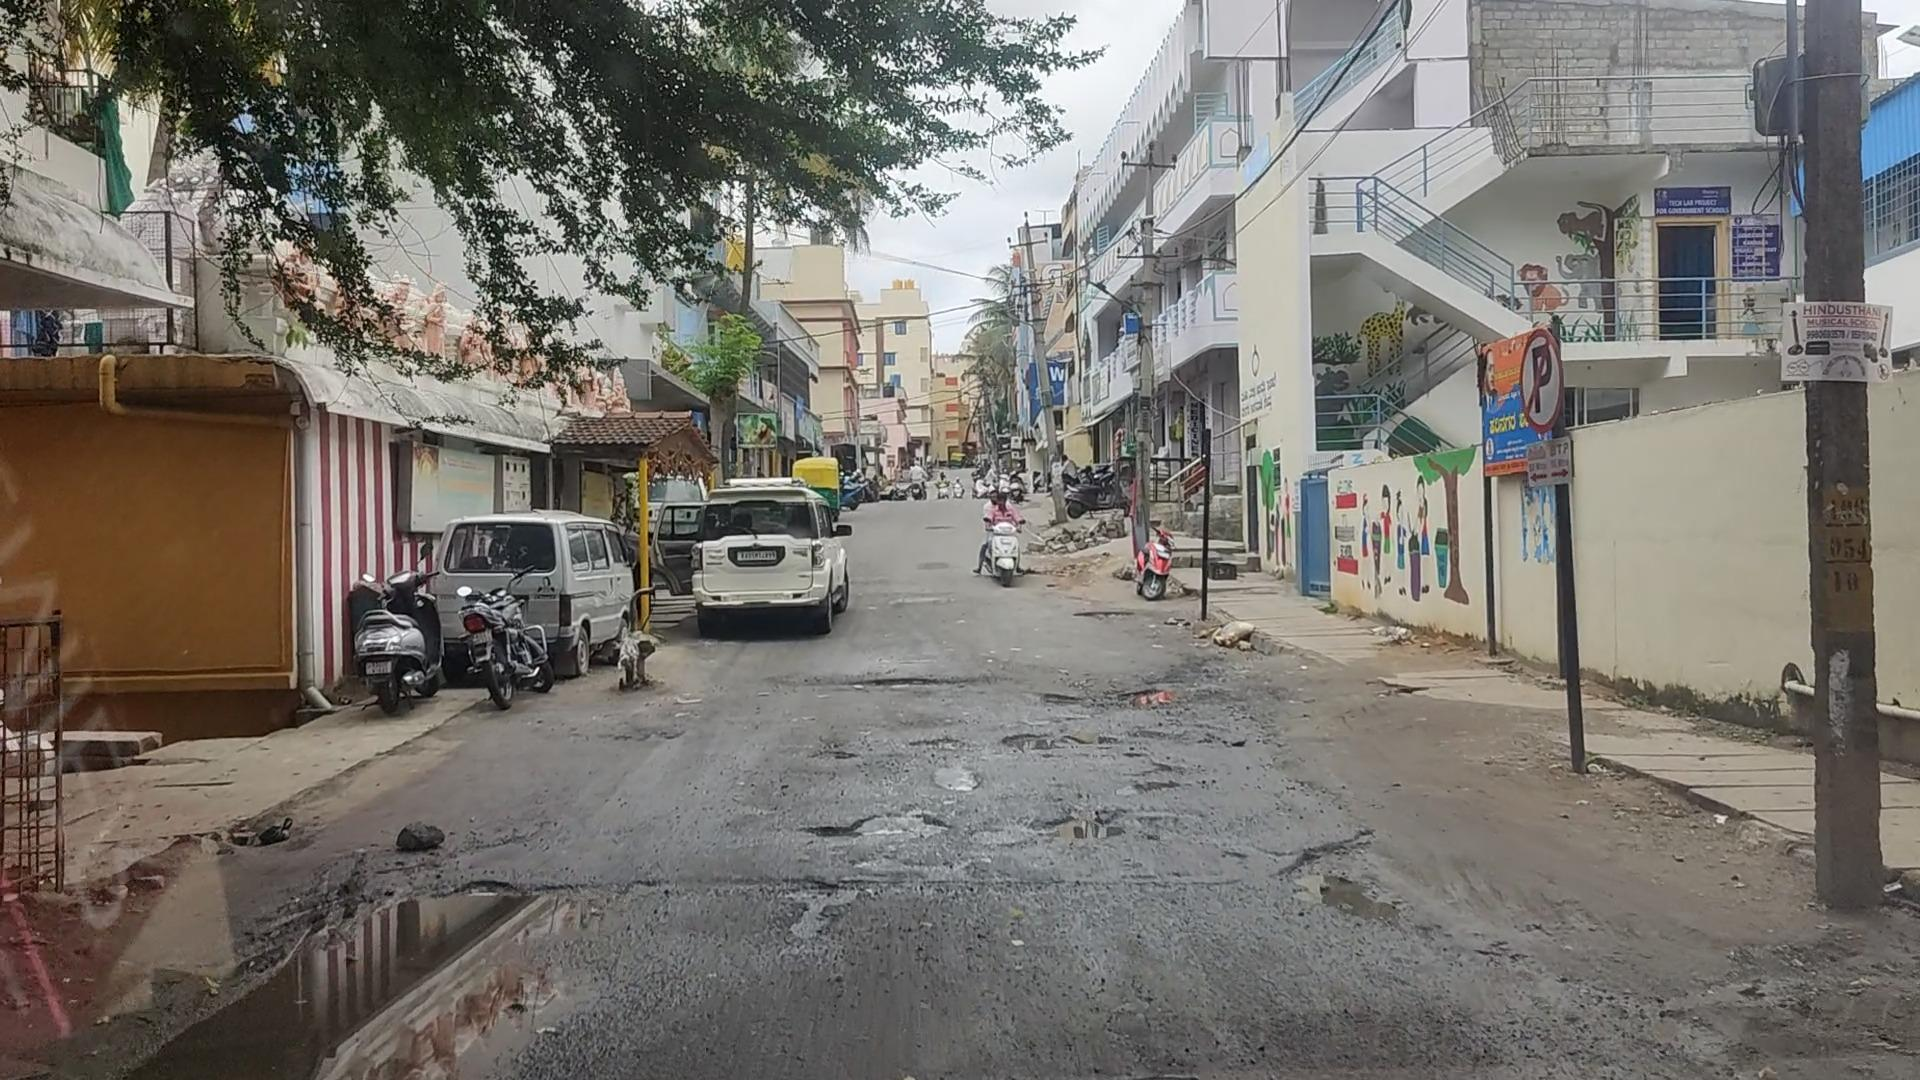LMV: (977, 491, 1027, 584)
RoadDamages: (247, 835, 622, 1071), (1201, 790, 1320, 894), (969, 798, 1176, 845), (808, 787, 936, 849), (764, 866, 851, 944), (793, 667, 964, 694), (1062, 683, 1184, 716), (1009, 719, 1087, 754), (902, 740, 957, 778), (808, 737, 857, 765)
